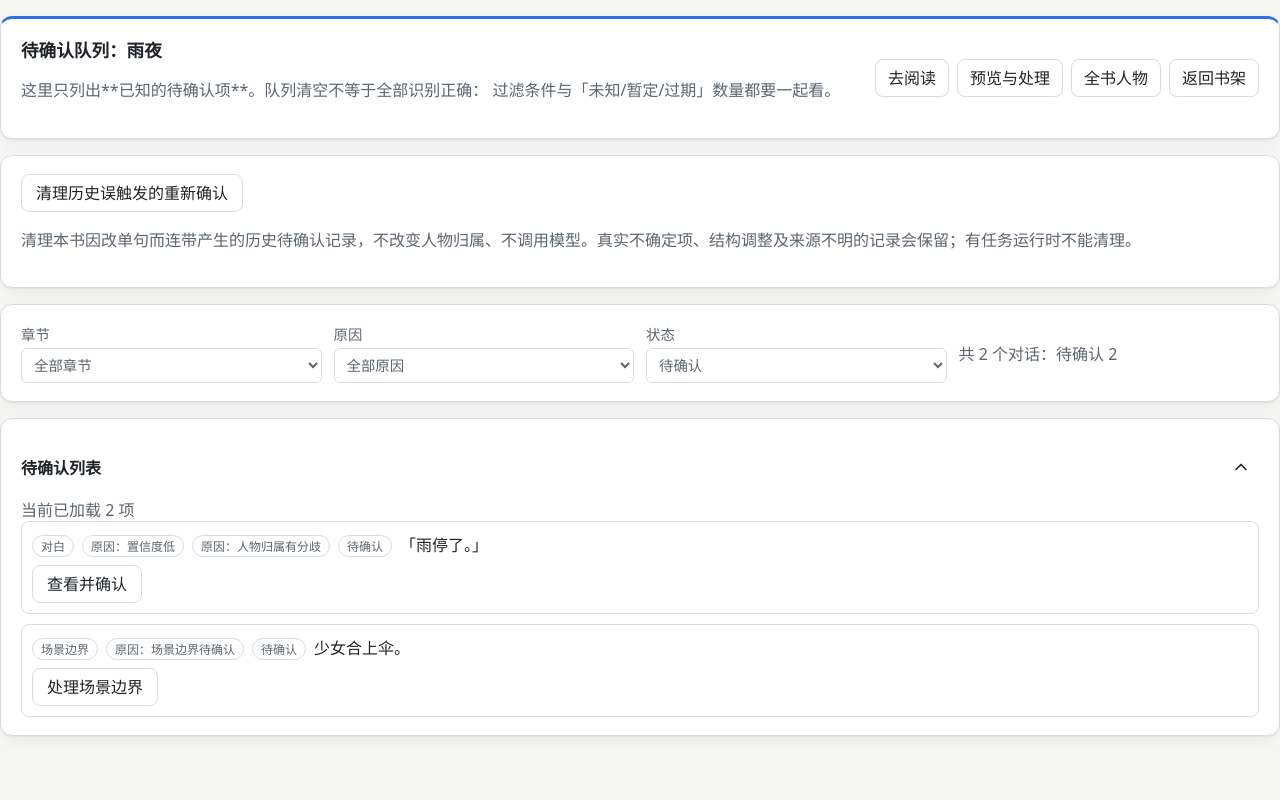
it: ReviewPage › 清理被运行任务阻止时显示真实原因
Click the button with test id "cleanup-dependency-reviews".
click(132, 193)  # box [21,174,243,212]
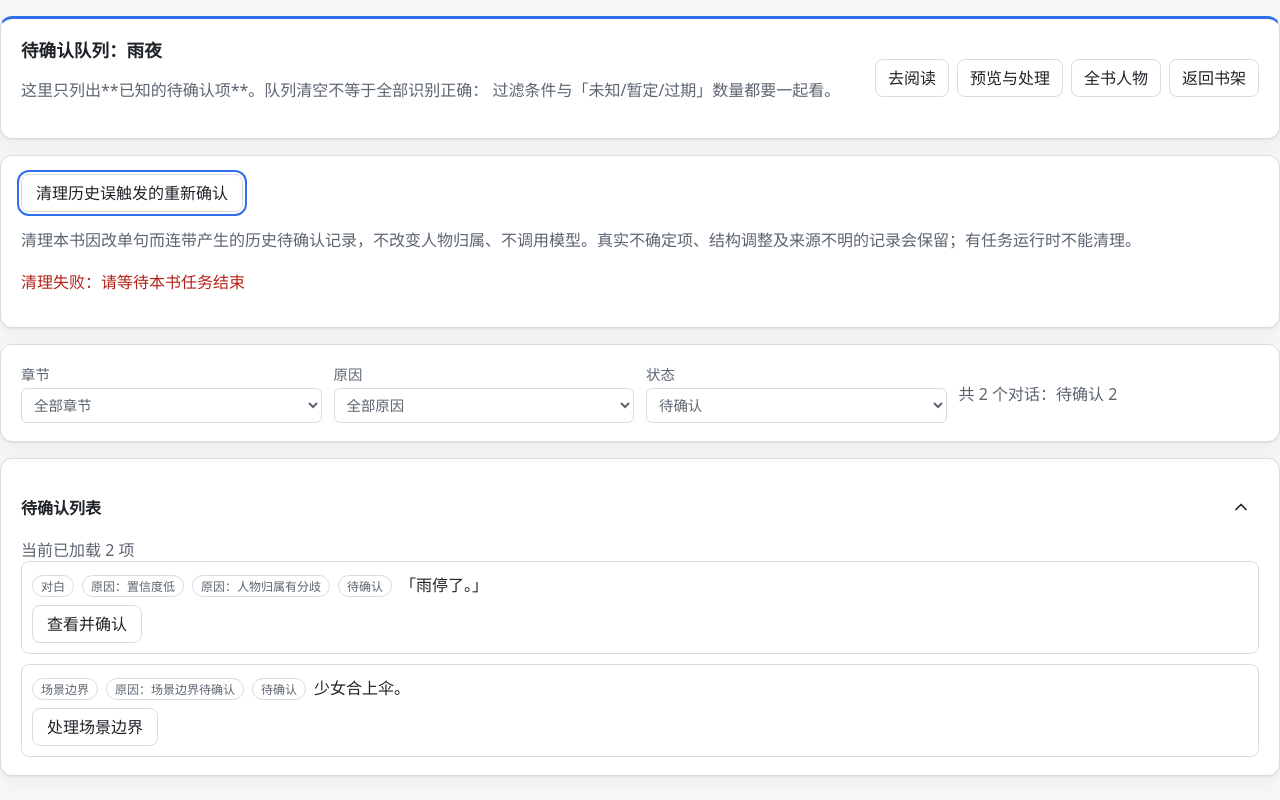
Expected: the message shows "请等待本书任务结束", [101,271,245,293]
